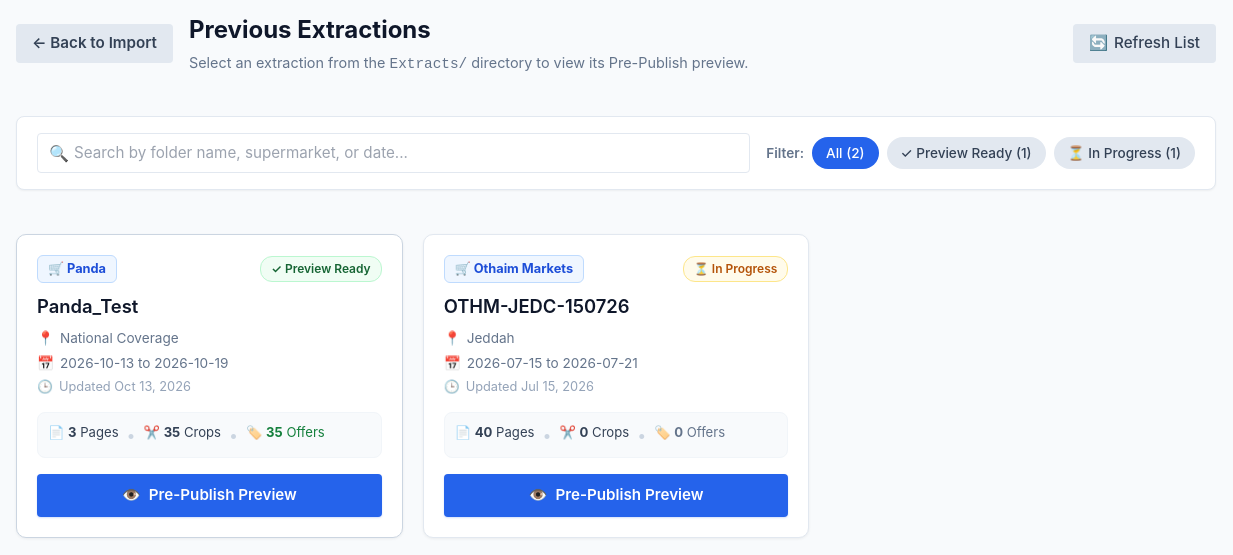
Scenario: PreviousExtractionsView › filters items by search input
Expected: the heading "Panda_Test" is shown, [37,295,138,317]
Expected: the heading "OTHM-JEDC-150726" is shown, [444,295,630,317]
Type "Panda" into the field with placeholder "Search by folder name, supermarket, or date...". click: (394, 153)
box: [37,133,750,173]
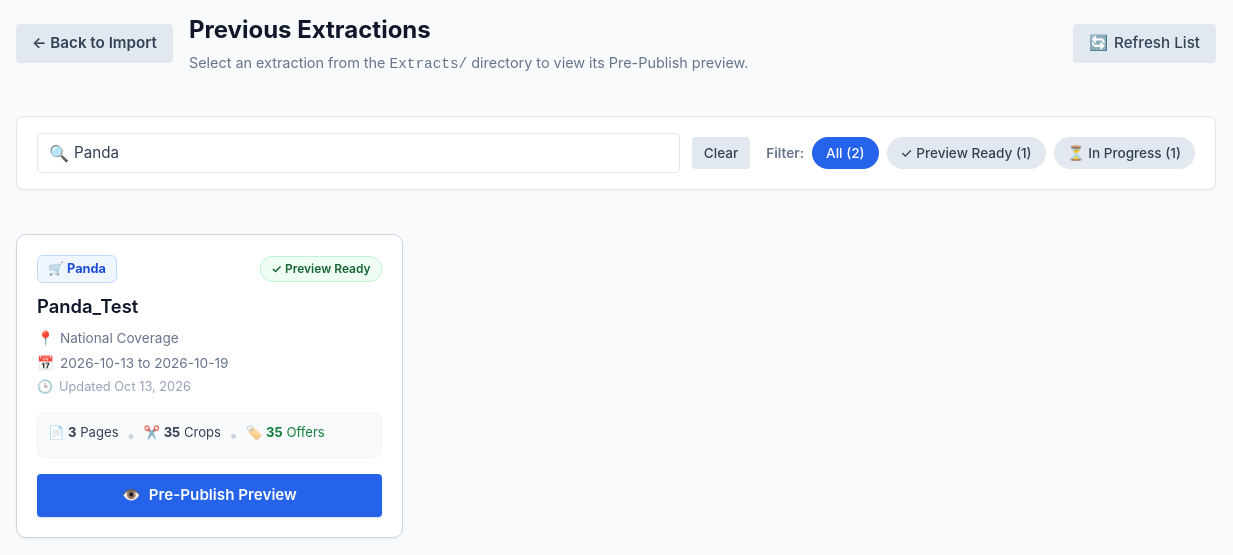
Expected: the heading "Panda_Test" is shown, [37,295,138,317]
Now the heading "OTHM-JEDC-150726" is gone
